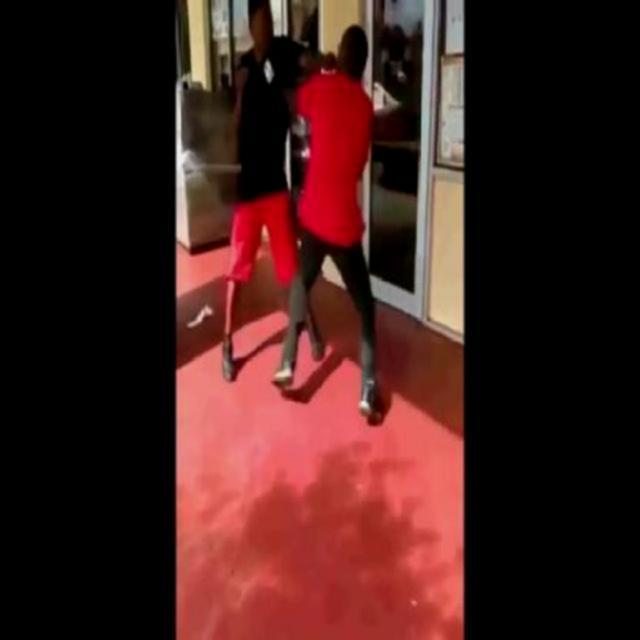fight: (220, 0, 386, 425)
